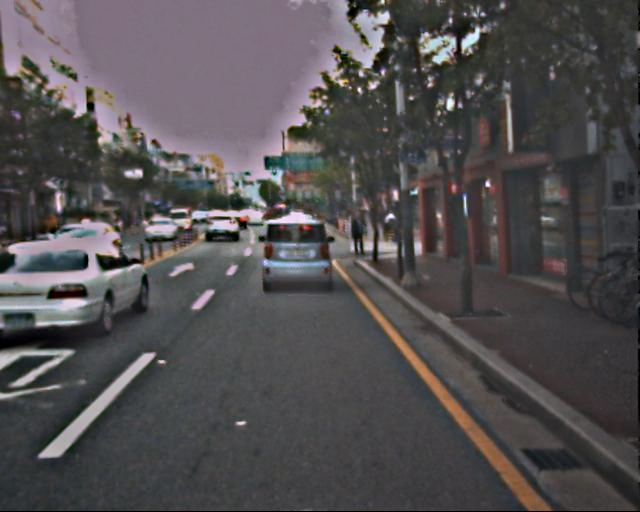person: (348, 209, 367, 256)
